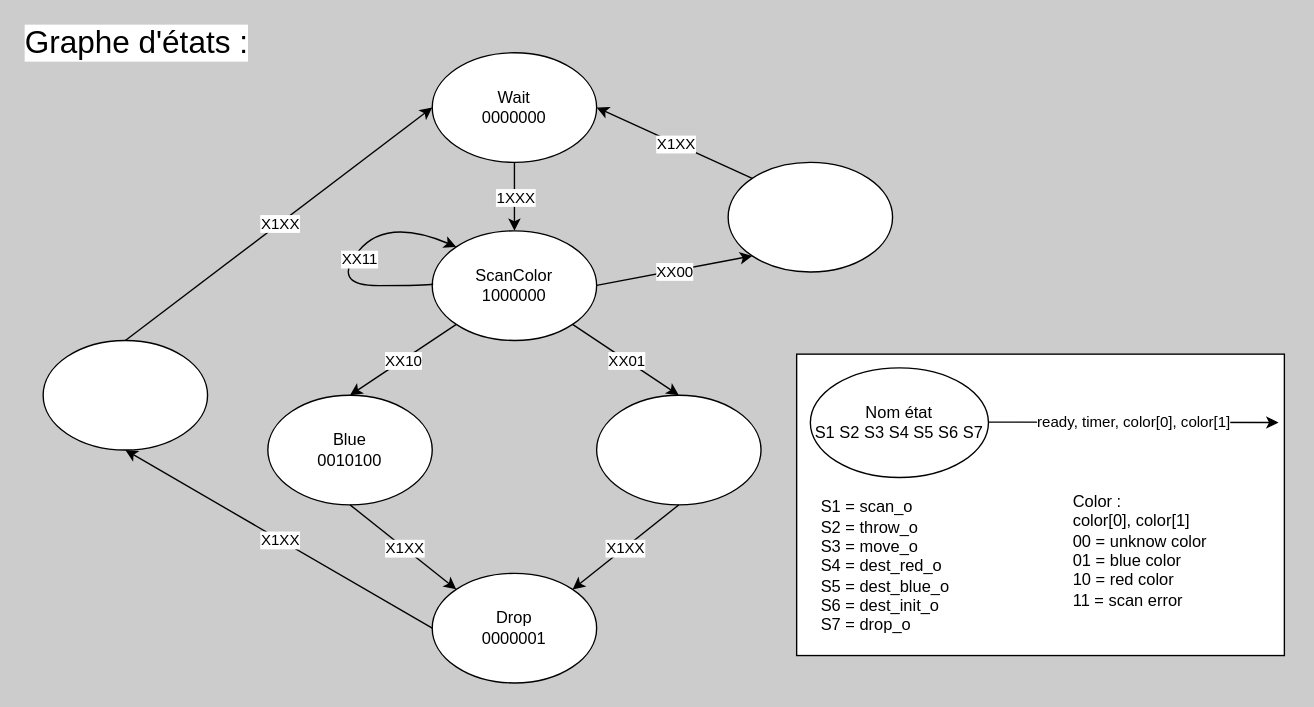
Some shapes in this 1314 by 707 pixel diagram are drawn without their labels. Each missing label, with the box of its shape:
Red 0011000: (595, 394, 761, 505)
ResetPos 0010010: (42, 339, 208, 450)
Unknow 0100000: (727, 161, 893, 272)
